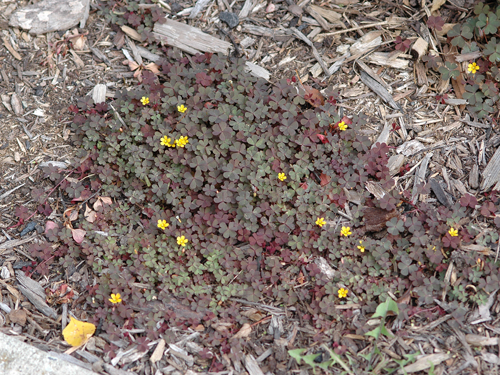oxalis: (35, 55, 448, 364)
